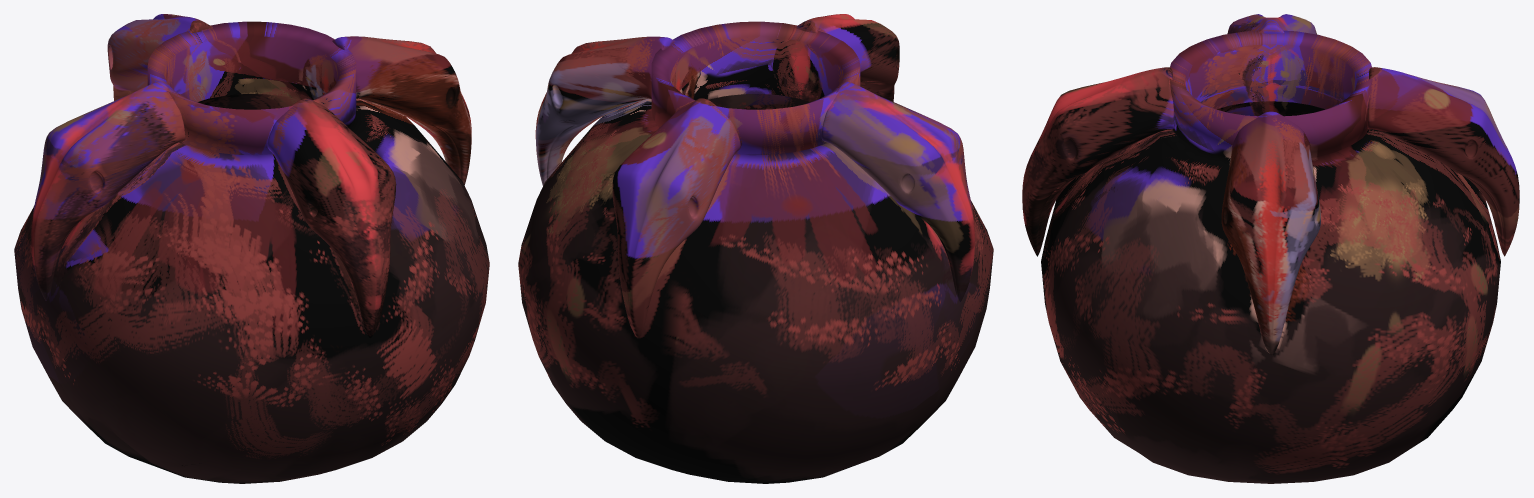
The model's file is popo2.gltf.
3 views of the same model, side by side, from view 1: azimuth 30°, elevation 25°; view 2: azimuth 150°, elevation 25°; view 3: azimuth 270°, elevation 25° (orthographic).
Parts seen in each view (by area): view 1: Cube; view 2: Cube; view 3: Cube.
Boxes of the visible parts, x1=… form: Cube: x1=14, y1=14, x2=489, y2=483; Cube: x1=518, y1=14, x2=993, y2=483; Cube: x1=1022, y1=14, x2=1519, y2=483.
Size of the model in its own units: 1.86 by 1.56 by 1.86.
1 material, 1 textured.
